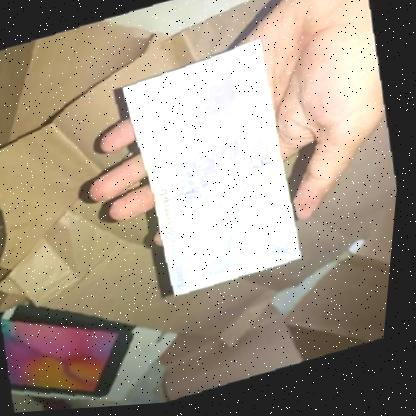two_hundred-back-vef: (105, 35, 324, 309)
